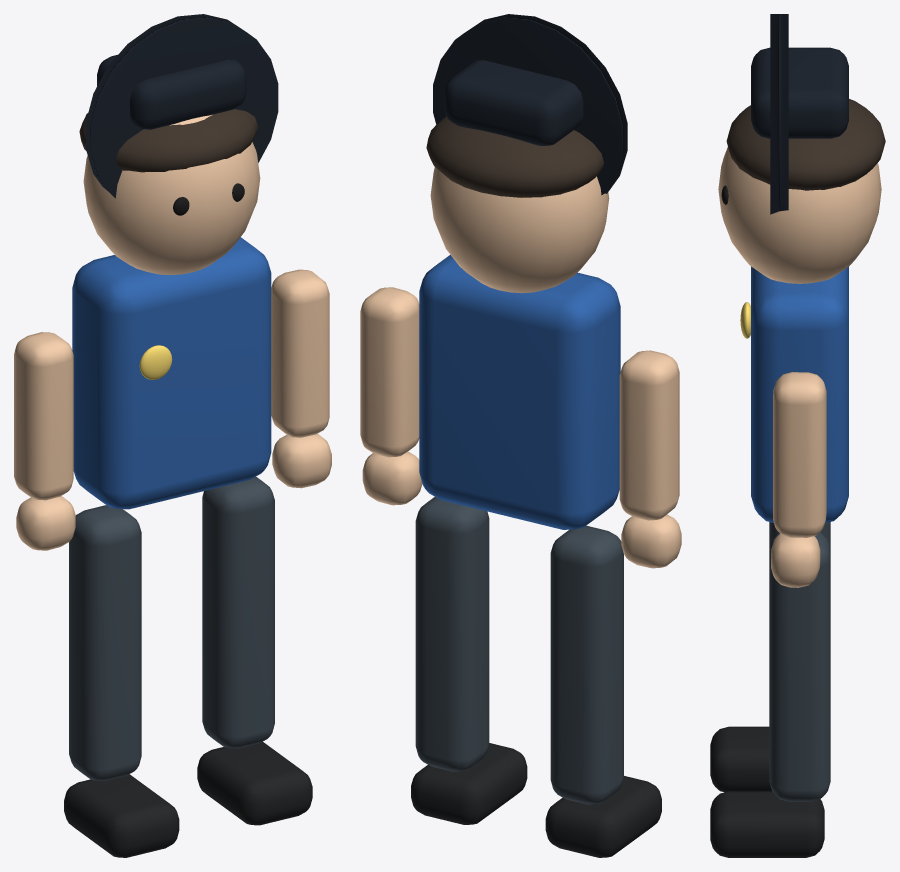
Rendered from cartoon_police_officer.glb.
3 renders of one model, left to right at view 1: azimuth 30°, elevation 25°; view 2: azimuth 150°, elevation 25°; view 3: azimuth 270°, elevation 25°, orthographic.
Parts seen in each view (by area): view 1: police_officer_torso, police_officer_leg_L, police_officer_leg_R, police_officer_head, police_officer_hat_brim, police_officer_upper_arm_L, police_officer_upper_arm_R, police_officer_foot_mesh_R, police_officer_foot_mesh_L, police_officer_hair_cap, police_officer_hat_top, police_officer_hand_R.001 (+2 smaller); view 2: police_officer_torso, police_officer_leg_L, police_officer_leg_R, police_officer_head, police_officer_hat_brim, police_officer_upper_arm_L, police_officer_upper_arm_R, police_officer_hair_cap, police_officer_hat_top, police_officer_foot_mesh_L, police_officer_foot_mesh_R, police_officer_hand_L.001 (+1 smaller); view 3: police_officer_torso, police_officer_leg_R, police_officer_head, police_officer_upper_arm_R, police_officer_hair_cap, police_officer_hat_top, police_officer_foot_mesh_R, police_officer_foot_mesh_L, police_officer_hat_brim, police_officer_hand_R.001.
Boxes of the visible parts, bbox=[...] form: police_officer_torso: bbox=[72, 237, 271, 509]; police_officer_leg_L: bbox=[69, 505, 141, 781]; police_officer_leg_R: bbox=[202, 476, 274, 748]; police_officer_head: bbox=[83, 114, 260, 275]; police_officer_hat_brim: bbox=[86, 14, 278, 198]; police_officer_upper_arm_L: bbox=[14, 332, 73, 500]; police_officer_upper_arm_R: bbox=[271, 269, 329, 437]; police_officer_foot_mesh_R: bbox=[197, 741, 312, 825]; police_officer_foot_mesh_L: bbox=[64, 774, 179, 857]; police_officer_hair_cap: bbox=[79, 109, 257, 172]; police_officer_hat_top: bbox=[97, 55, 246, 129]; police_officer_hand_R.001: bbox=[272, 433, 331, 488]; police_officer_torso: bbox=[419, 255, 620, 529]; police_officer_leg_L: bbox=[550, 525, 623, 804]; police_officer_leg_R: bbox=[415, 497, 489, 771]; police_officer_head: bbox=[430, 167, 609, 293]; police_officer_hat_brim: bbox=[433, 14, 627, 195]; police_officer_upper_arm_L: bbox=[619, 350, 679, 520]; police_officer_upper_arm_R: bbox=[360, 287, 419, 457]; police_officer_hair_cap: bbox=[426, 116, 603, 197]; police_officer_hat_top: bbox=[444, 60, 583, 145]; police_officer_foot_mesh_L: bbox=[545, 776, 661, 857]; police_officer_foot_mesh_R: bbox=[411, 743, 527, 824]; police_officer_hand_L.001: bbox=[621, 514, 681, 568]; police_officer_torso: bbox=[751, 266, 848, 523]; police_officer_leg_R: bbox=[769, 532, 830, 801]; police_officer_head: bbox=[718, 147, 881, 283]; police_officer_upper_arm_R: bbox=[773, 372, 826, 537]; police_officer_hair_cap: bbox=[726, 99, 885, 190]; police_officer_hat_top: bbox=[751, 47, 848, 138]; police_officer_foot_mesh_R: bbox=[710, 791, 824, 857]; police_officer_foot_mesh_L: bbox=[710, 726, 771, 792]; police_officer_hat_brim: bbox=[770, 14, 788, 214]; police_officer_hand_R.001: bbox=[771, 533, 820, 587].
Size of the model in its own units: 0.8599 by 2.14 by 0.43.
